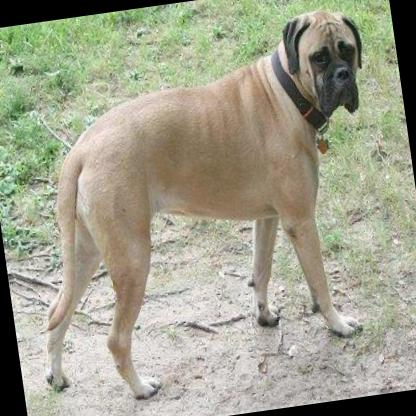bull_mastiff: (0, 2, 404, 413)
